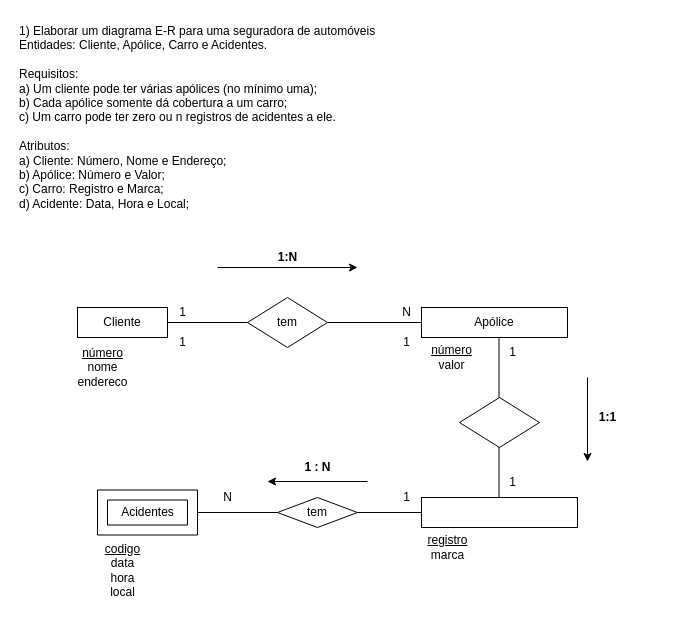
Some shapes in this 674 by 622 pixel diagram are drawn without their labels. Here are the shapes that lost their labels. From the top down, the box of each, then its label:
(458, 396, 540, 448): cobre
(420, 496, 578, 528): Carro
